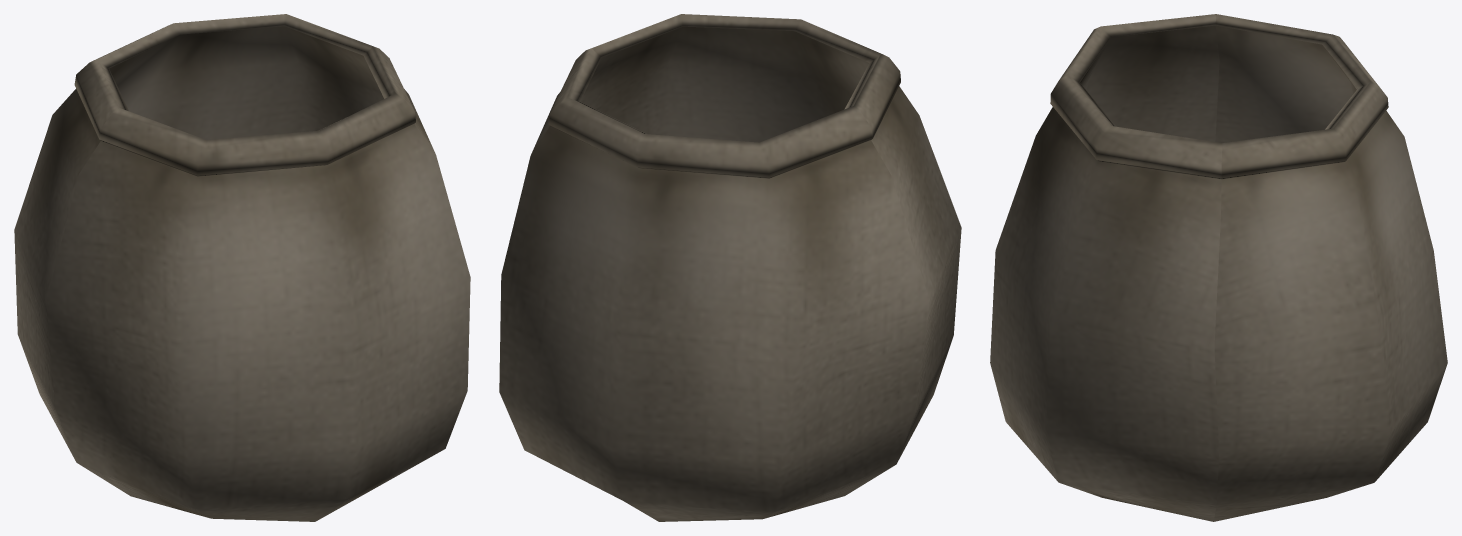
Rendered from sack_006.fbx.
The picture shows the model from 3 angles, left to right: view 1: azimuth 30°, elevation 25°; view 2: azimuth 150°, elevation 25°; view 3: azimuth 270°, elevation 25°; orthographic projection.
Parts seen in each view (by area): view 1: sack_006; view 2: sack_006; view 3: sack_006.
Part boxes in pixels (<box>): sack_006: <box>14,14,470,521</box>; sack_006: <box>499,14,961,521</box>; sack_006: <box>990,14,1447,521</box>.
Size of the model in its own units: 15.57 by 15.55 by 15.62.
